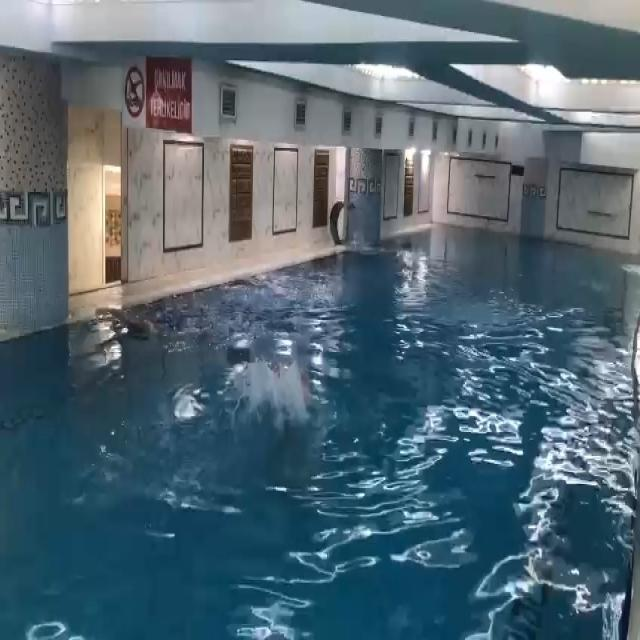Drowning: (240, 345, 317, 425)
